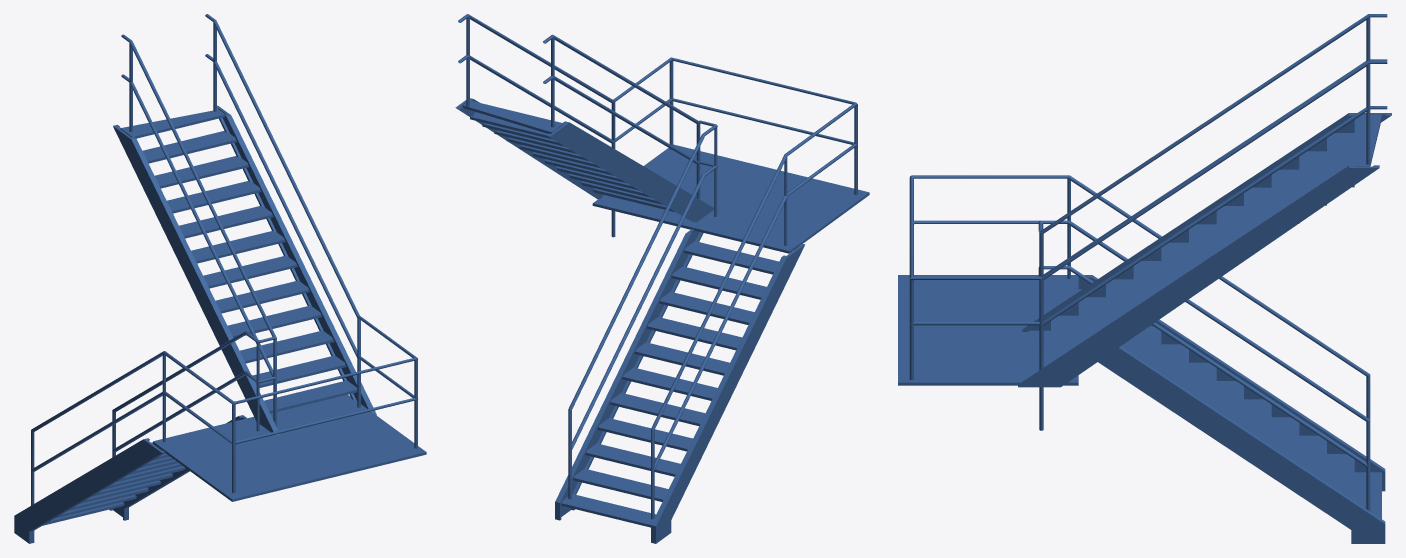
The model's file is Stair2.FBX.
The picture shows the model from 3 angles, left to right: view 1: azimuth 30°, elevation 25°; view 2: azimuth 150°, elevation 25°; view 3: azimuth 270°, elevation 25°; orthographic projection. The views are drawn at different scales.
Visible parts, largest first — view 1: Stair2; view 2: Stair2; view 3: Stair2.
Boxes of the visible parts, <box> form: Stair2: <box>14,14,426,543</box>; Stair2: <box>455,14,869,543</box>; Stair2: <box>898,14,1391,543</box>.
Bounding box in the file's own units: 2483 × 5563 × 4652.
